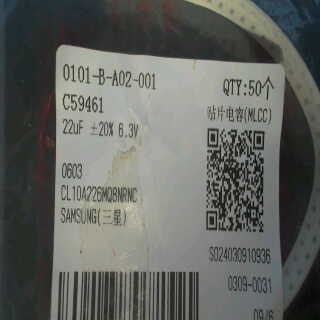22uF: (60, 116, 85, 136)
